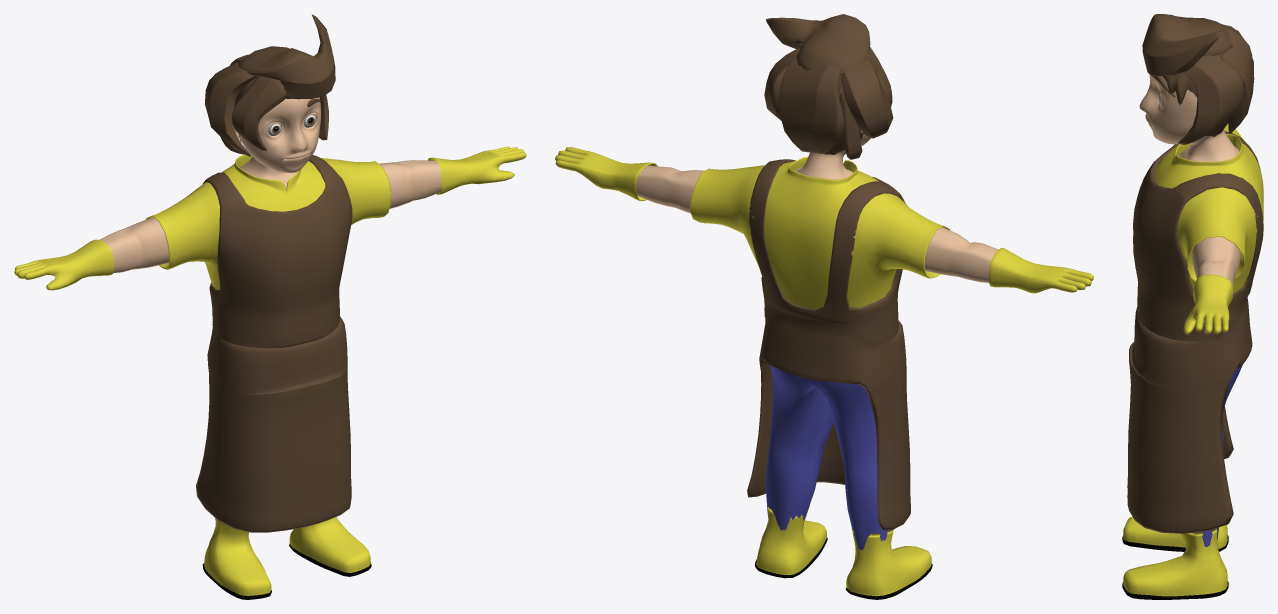
Rendered from Sprinter_Model.fbx.
3 renders of one model, left to right at view 1: azimuth 30°, elevation 25°; view 2: azimuth 150°, elevation 25°; view 3: azimuth 270°, elevation 25°, orthographic. The views are drawn at different scales.
Parts seen in each view (by area): view 1: Cloak, T_shirt, Body, Hair2, Right_Boot, Left_Boot, Right_Glove, Left_Glove, Hair3, Hair1; view 2: Cloak, T_shirt, Pants, Body, Hair4, Hair2, Right_Boot, Left_Boot, Right_Glove, Hair3, Left_Glove, Hair6 (+1 smaller); view 3: Cloak, T_shirt, Body, Left_Boot, Hair2, Hair6, Left_Glove, Hair4, Right_Boot, Hair_base, Pants.
Boxes of the visible parts, x1,y1,x2,y2 form: Cloak: (196,155,352,532); T_shirt: (146,154,390,290); Body: (23,97,441,273); Hair2: (235,14,335,99); Right_Boot: (202,519,271,599); Left_Boot: (289,517,371,576); Right_Glove: (14,239,114,290); Left_Glove: (428,146,526,194); Hair3: (205,63,257,156); Hair1: (232,76,286,150); Cloak: (747,159,910,530); T_shirt: (690,156,949,309); Pants: (765,365,889,550); Body: (636,129,1077,282); Hair4: (779,62,843,153); Hair2: (766,14,870,74); Right_Boot: (845,527,932,599); Left_Boot: (755,506,827,578); Right_Glove: (988,248,1093,293); Hair3: (841,55,893,138); Left_Glove: (555,147,657,201); Hair6: (764,48,800,120); Cloak: (1127,131,1263,533); T_shirt: (1155,124,1263,292); Body: (1139,74,1240,287); Left_Boot: (1122,528,1228,599); Hair2: (1142,14,1232,75); Hair6: (1178,55,1243,144); Left_Glove: (1183,274,1233,334); Hair4: (1220,24,1254,134); Right_Boot: (1122,516,1228,551); Hair_base: (1162,54,1238,136); Pants: (1194,365,1242,547).
Size of the model in its own units: 18.66 by 18.58 by 4.26.
